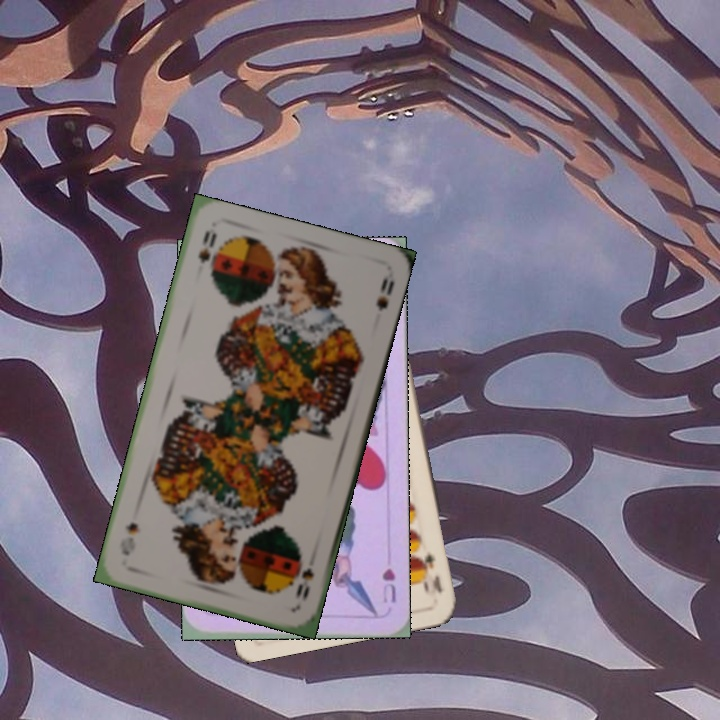E10: (414, 547, 445, 596)
HU: (378, 564, 398, 606)
SO: (291, 556, 317, 603), (194, 226, 219, 266)
